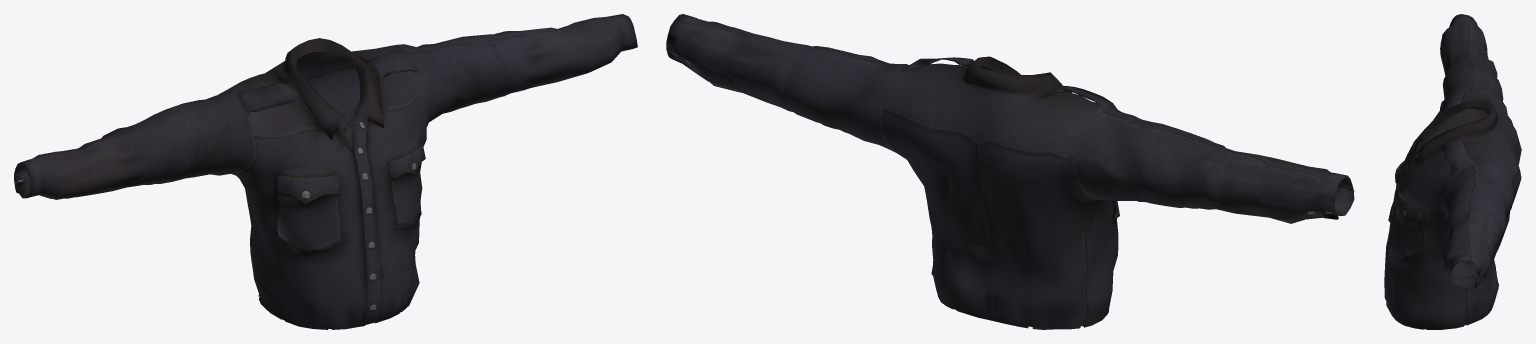
Rendered from ShirtShape.obj.
3 renders of one model, left to right at view 1: azimuth 30°, elevation 25°; view 2: azimuth 150°, elevation 25°; view 3: azimuth 270°, elevation 25°, orthographic. The views are drawn at different scales.
Parts seen in each view (by area): view 1: Shirt Brad_Skin CharacterRoot; view 2: Shirt Brad_Skin CharacterRoot; view 3: Shirt Brad_Skin CharacterRoot.
Boxes of the visible parts, x1,y1,x2,y2 form: Shirt Brad_Skin CharacterRoot: (14, 14, 637, 329); Shirt Brad_Skin CharacterRoot: (666, 14, 1354, 329); Shirt Brad_Skin CharacterRoot: (1384, 14, 1521, 329).
Size of the model in its own units: 142 by 53.4 by 33.21.
Materials: 1 (1 with a texture image).
